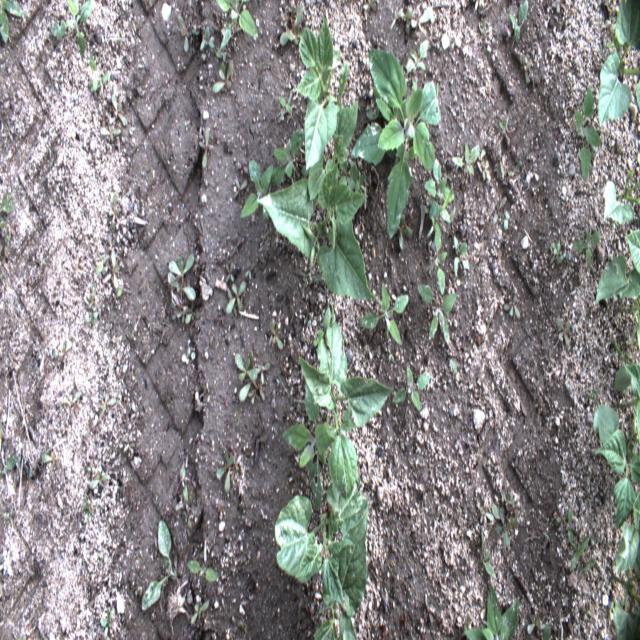crop: (298, 299, 395, 508), (256, 160, 379, 302), (274, 482, 370, 640), (592, 403, 638, 570), (308, 60, 359, 202), (296, 12, 338, 174), (598, 0, 639, 130), (610, 531, 639, 638), (593, 251, 639, 305), (602, 164, 640, 224), (613, 362, 639, 444), (624, 225, 640, 272)
weed: (349, 46, 441, 244), (282, 386, 333, 514), (357, 278, 411, 348), (139, 519, 175, 612), (462, 583, 518, 638), (50, 0, 98, 63), (573, 81, 602, 183), (415, 282, 459, 348), (233, 345, 273, 407), (424, 154, 456, 224), (491, 487, 526, 551), (167, 253, 197, 325), (240, 159, 274, 220), (391, 362, 432, 412), (271, 127, 303, 184), (215, 0, 260, 40), (278, 3, 308, 49), (216, 447, 243, 496), (393, 6, 434, 36), (572, 227, 602, 268), (0, 0, 24, 50), (507, 0, 529, 53), (406, 36, 430, 84), (86, 53, 110, 99), (184, 557, 222, 586), (451, 141, 480, 179), (433, 227, 448, 296), (480, 523, 498, 580), (557, 503, 579, 548), (226, 280, 249, 316), (210, 62, 234, 95), (215, 28, 233, 72), (174, 458, 189, 507), (100, 230, 118, 270), (453, 233, 468, 280), (340, 164, 368, 189), (276, 87, 295, 123), (177, 14, 194, 54), (189, 596, 212, 625), (112, 92, 130, 127), (503, 293, 524, 323), (90, 467, 112, 495), (99, 120, 125, 143), (99, 604, 116, 639), (556, 316, 574, 349), (269, 319, 285, 355), (199, 126, 211, 172), (199, 24, 217, 52), (525, 611, 545, 636), (230, 177, 248, 203), (550, 239, 566, 268), (1, 190, 16, 218), (478, 504, 495, 528), (223, 260, 237, 286)
